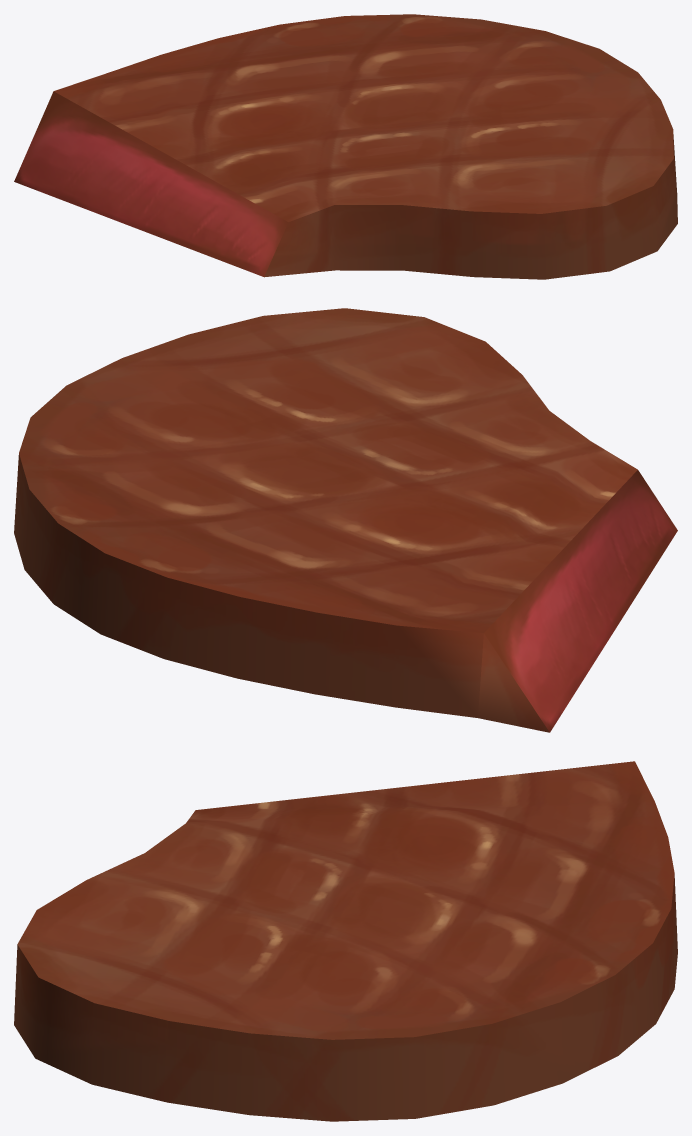
Rendered from meatcooked_001.fbx.
3 views of the same model, one above another, from view 1: azimuth 30°, elevation 25°; view 2: azimuth 150°, elevation 25°; view 3: azimuth 270°, elevation 25° (orthographic). The views are drawn at different scales.
Visible parts, largest first — view 1: meatcooked.001; view 2: meatcooked.001; view 3: meatcooked.001.
Boxes of the visible parts, bbox=[...] form: meatcooked.001: bbox=[14, 14, 677, 279]; meatcooked.001: bbox=[14, 308, 677, 732]; meatcooked.001: bbox=[14, 761, 677, 1121].
Size of the model in its own units: 20.72 by 2.88 by 19.08.
